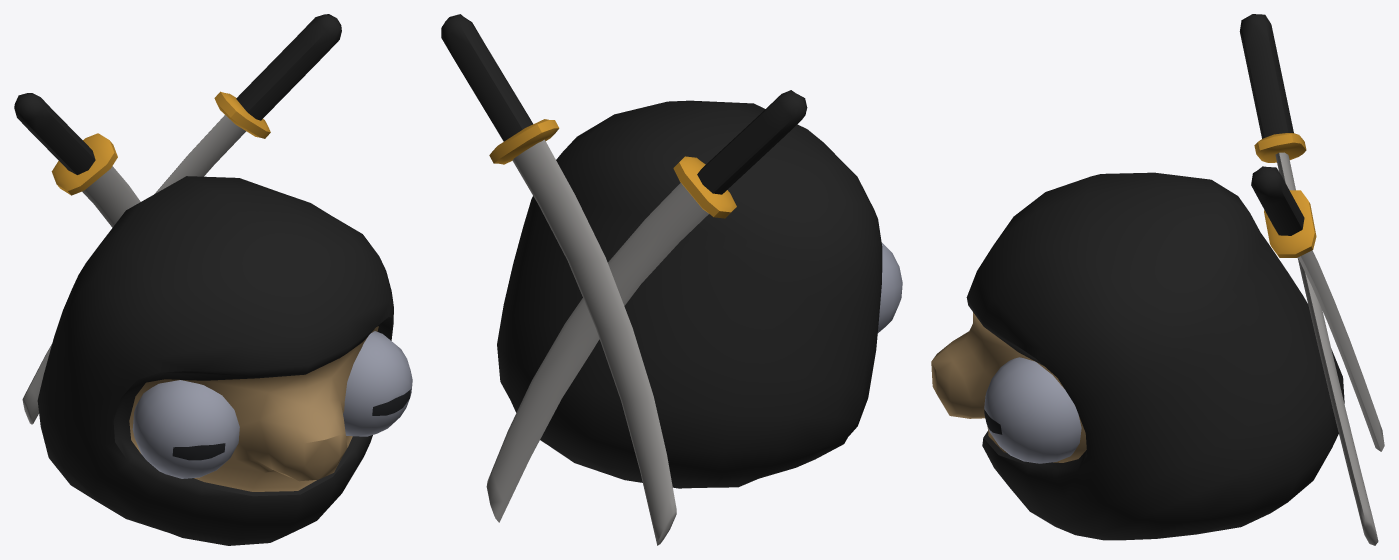
Rendered from ninja.glb.
3 renders of one model, left to right at view 1: azimuth 30°, elevation 25°; view 2: azimuth 150°, elevation 25°; view 3: azimuth 270°, elevation 25°, orthographic. The views are drawn at different scales.
Visible parts, largest first — view 1: Ninja_Blob.001; view 2: Ninja_Blob.001; view 3: Ninja_Blob.001.
Part boxes in pixels (x1,y1,x2,y2): Ninja_Blob.001: [14, 14, 412, 545]; Ninja_Blob.001: [441, 14, 902, 545]; Ninja_Blob.001: [931, 14, 1384, 545].
Size of the model in its own units: 2.48 by 2.99 by 2.83.
1 material, 1 textured.
